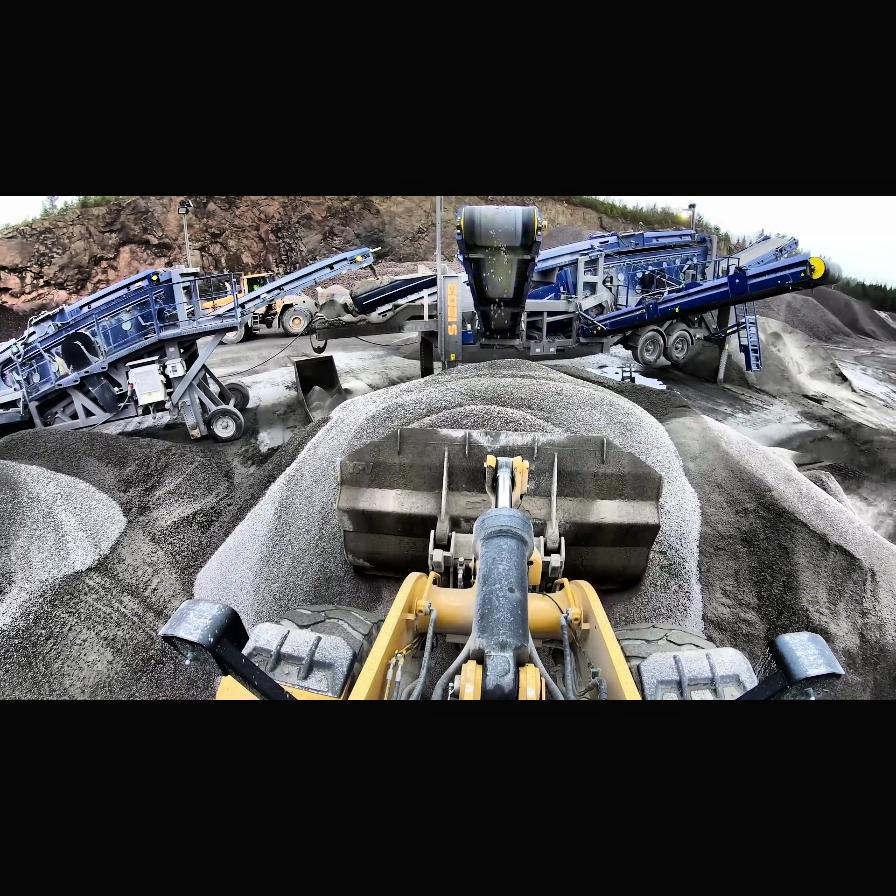anchor: (485, 454, 531, 510)
pile of gravel: (260, 352, 895, 692), (1, 427, 292, 683), (734, 314, 896, 446), (0, 464, 128, 626), (791, 283, 895, 341)
